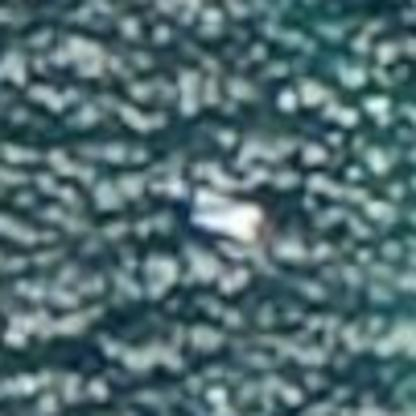ship: (173, 168, 274, 253)
